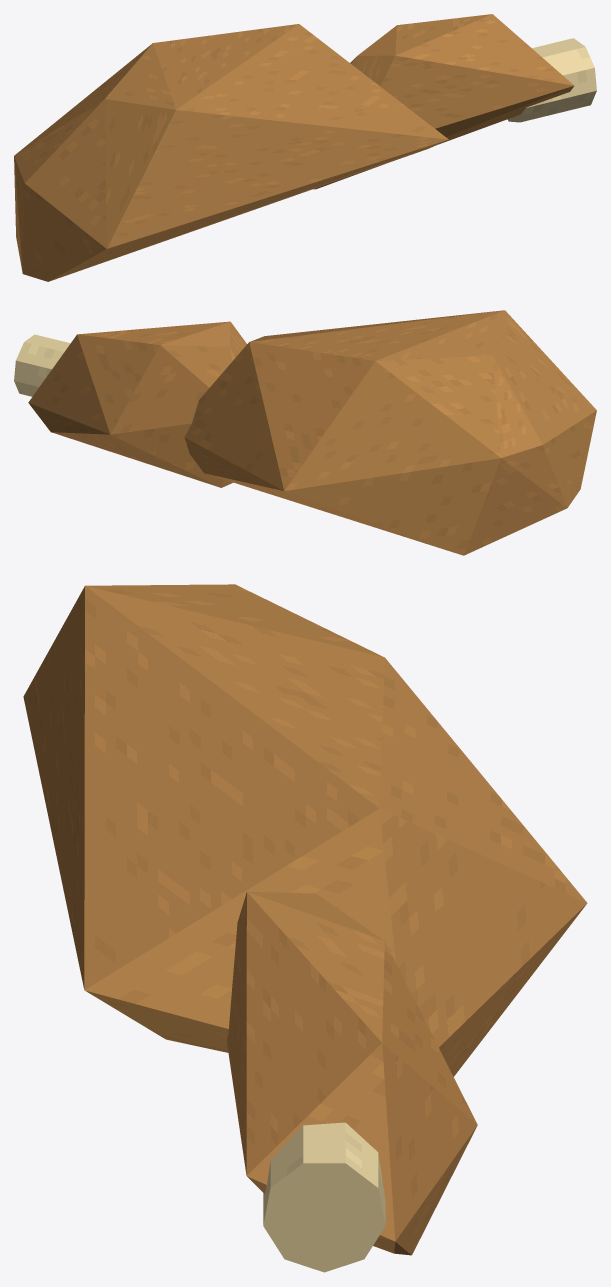
Rendered from chicken_fried.glb.
The picture shows the model from 3 angles, top to bottom: view 1: azimuth 30°, elevation 25°; view 2: azimuth 150°, elevation 25°; view 3: azimuth 270°, elevation 25°; orthographic projection. The views are drawn at different scales.
Visible parts, largest first — view 1: block_crisp chicken thigh, block_crisp drumstick, block_bone tip; view 2: block_crisp chicken thigh, block_crisp drumstick, block_bone tip; view 3: block_crisp chicken thigh, block_crisp drumstick, block_bone tip.
Boxes of the visible parts, x1=… form: block_crisp chicken thigh: x1=14, y1=24, x2=448, y2=281; block_crisp drumstick: x1=313, y1=14, x2=574, y2=189; block_bone tip: x1=507, y1=38, x2=596, y2=122; block_crisp chicken thigh: x1=184, y1=310, x2=596, y2=555; block_crisp drumstick: x1=28, y1=321, x2=246, y2=487; block_bone tip: x1=14, y1=334, x2=70, y2=396; block_crisp chicken thigh: x1=23, y1=584, x2=587, y2=1076; block_crisp drumstick: x1=227, y1=891, x2=477, y2=1255; block_bone tip: x1=263, y1=1122, x2=385, y2=1272.
Bounding box in the file's own units: 0.1203 × 0.0372 × 0.0571.
1 material, 1 textured.
